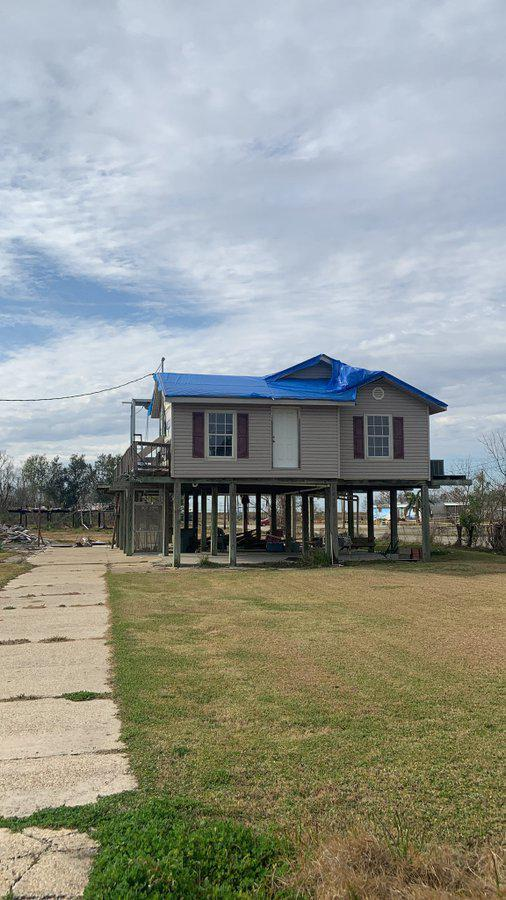minor: (119, 328, 472, 572)
